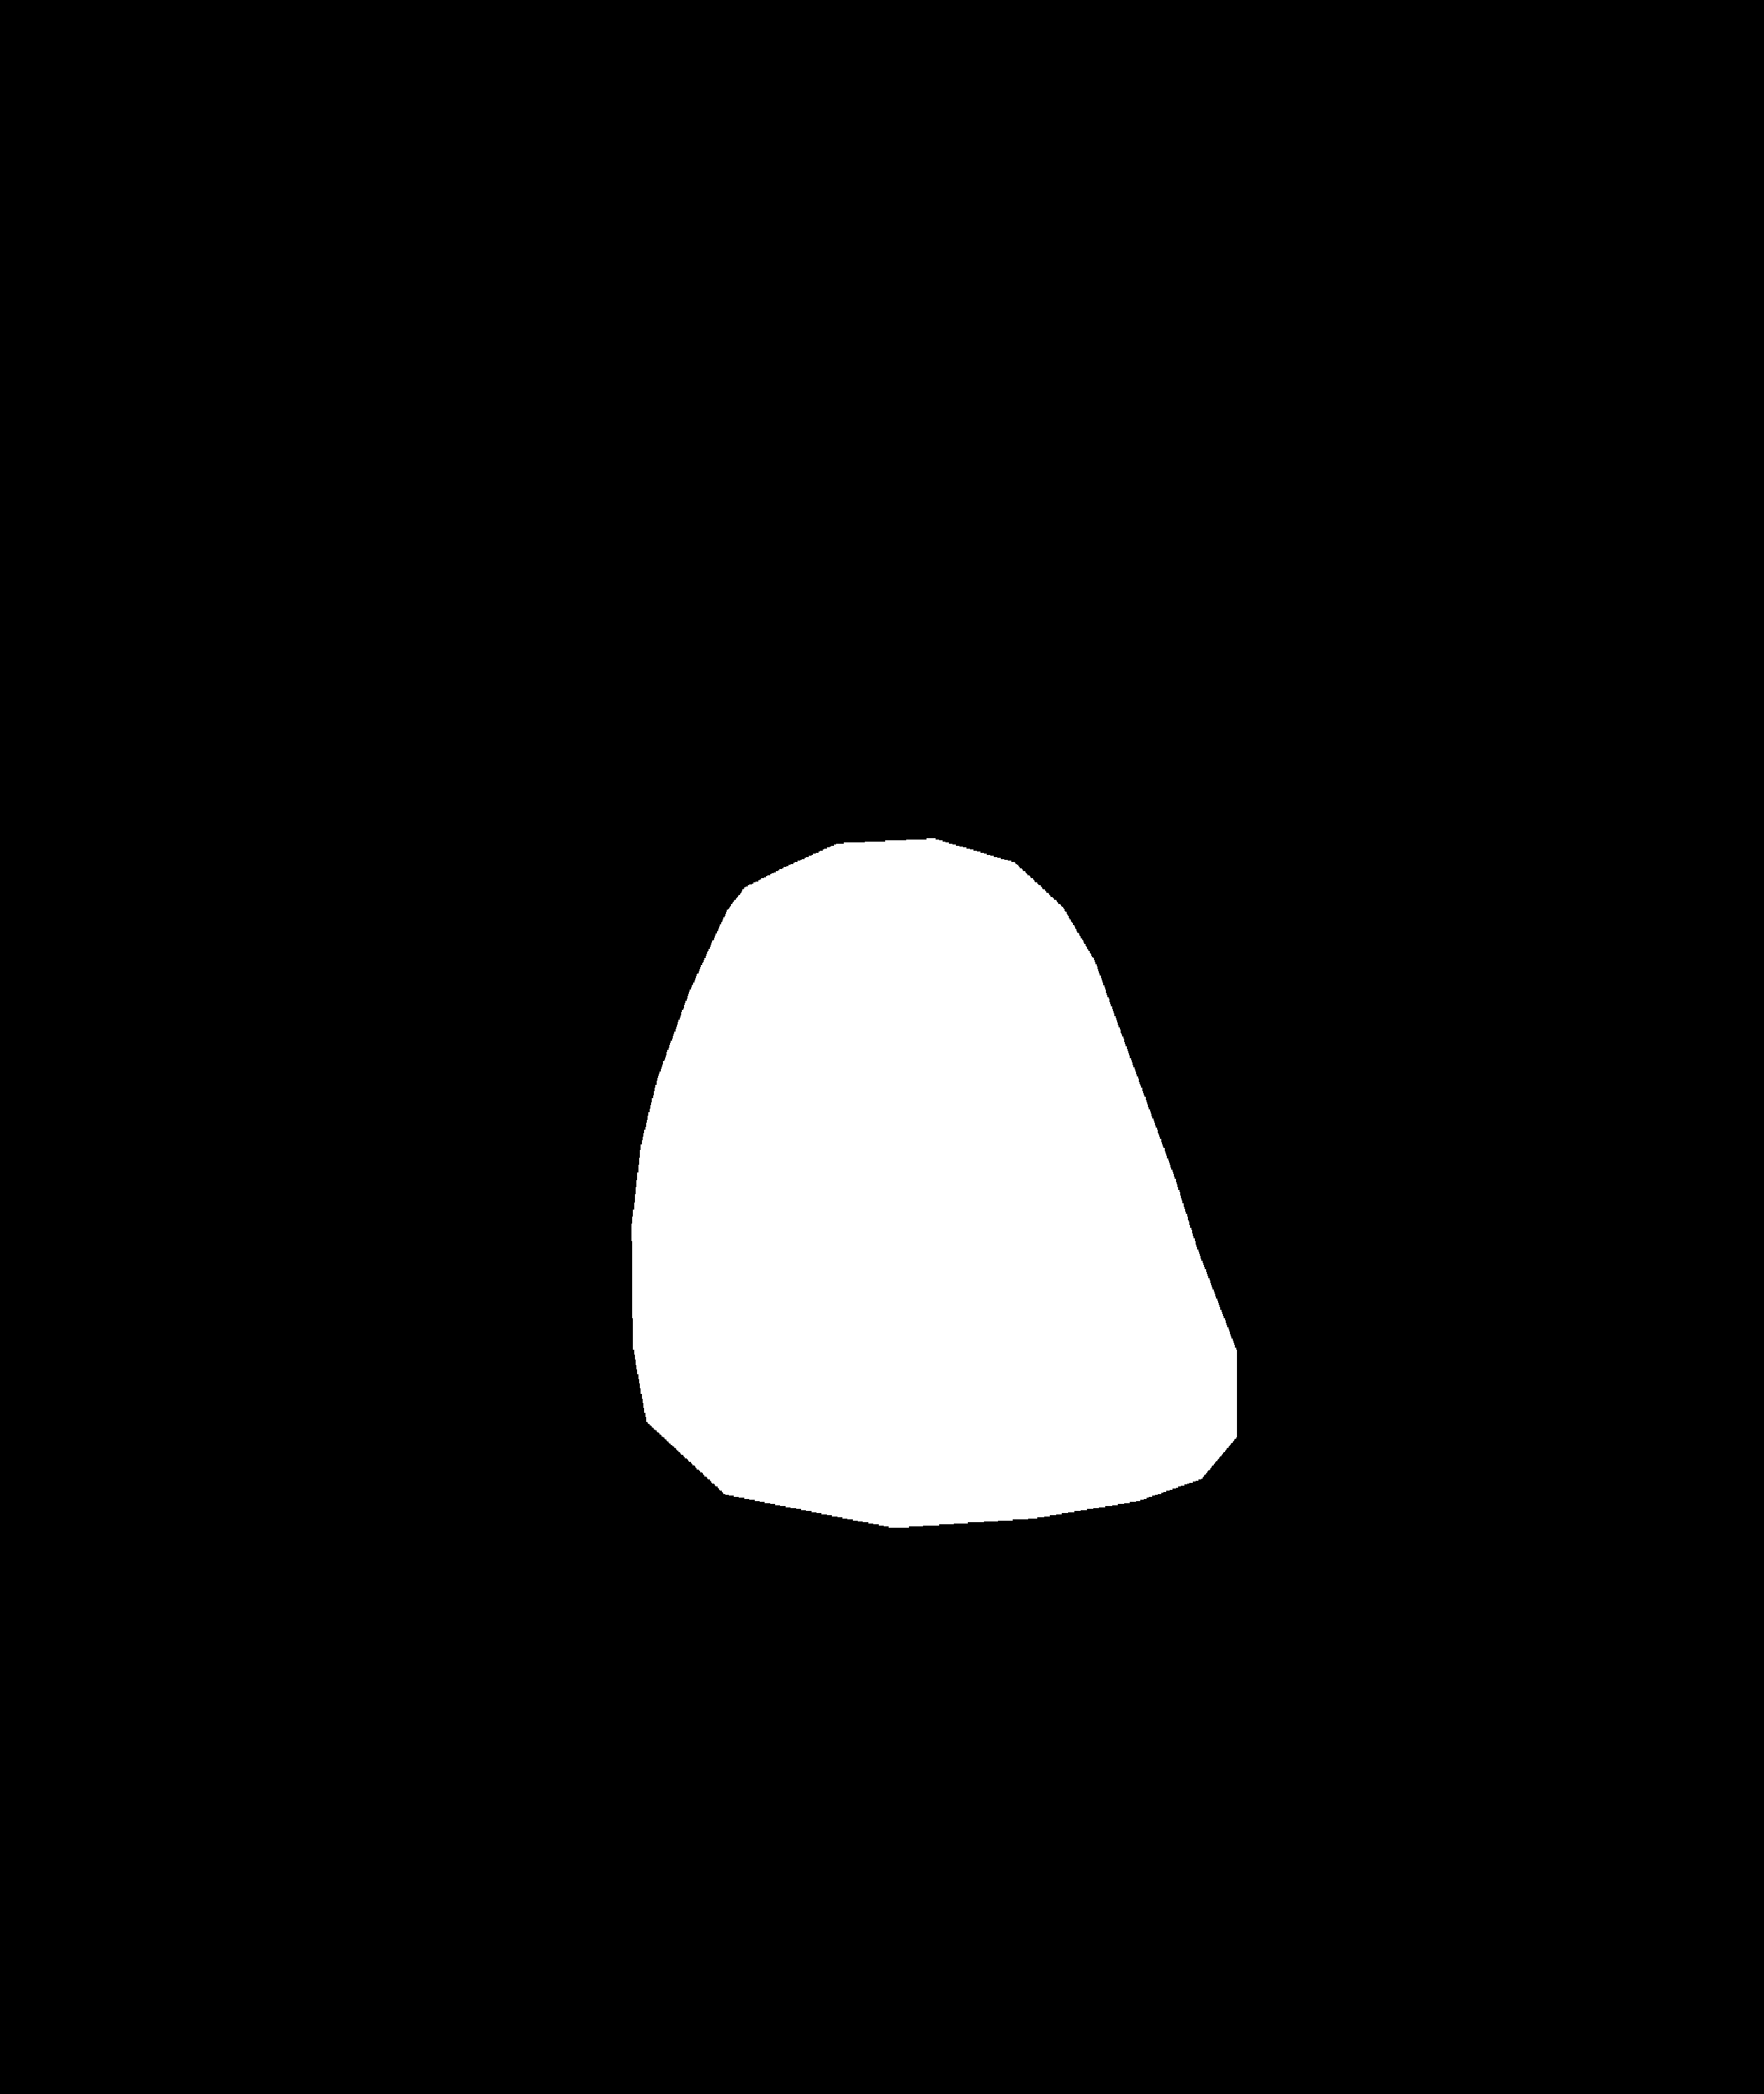heart: (633, 1058, 1241, 1513)
left_lung: (189, 213, 819, 1692)
right_lung: (934, 243, 1556, 1723)
